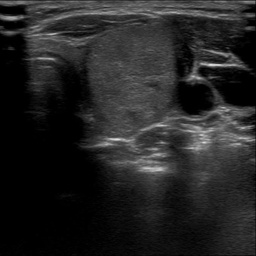mass: (85, 22, 175, 126)
